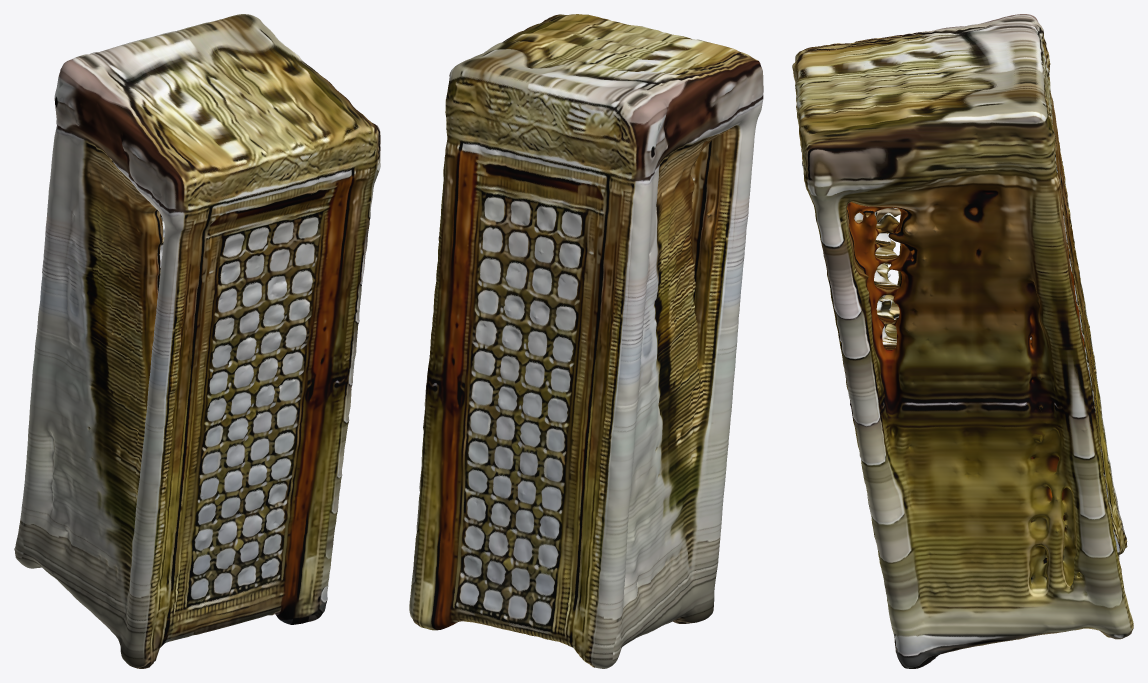
File: kfl-2288.glb
3 views of the same model, side by side, from view 1: azimuth 30°, elevation 25°; view 2: azimuth 150°, elevation 25°; view 3: azimuth 270°, elevation 25° (orthographic).
Parts seen in each view (by area): view 1: kfl-2288; view 2: kfl-2288; view 3: kfl-2288.
Boxes of the visible parts, bbox=[...] form: kfl-2288: bbox=[14, 14, 380, 668]; kfl-2288: bbox=[409, 14, 763, 668]; kfl-2288: bbox=[792, 14, 1133, 668].
Size of the model in its own units: 0.4033 by 0.9972 by 0.5413.
Materials: 1 (1 with a texture image).
